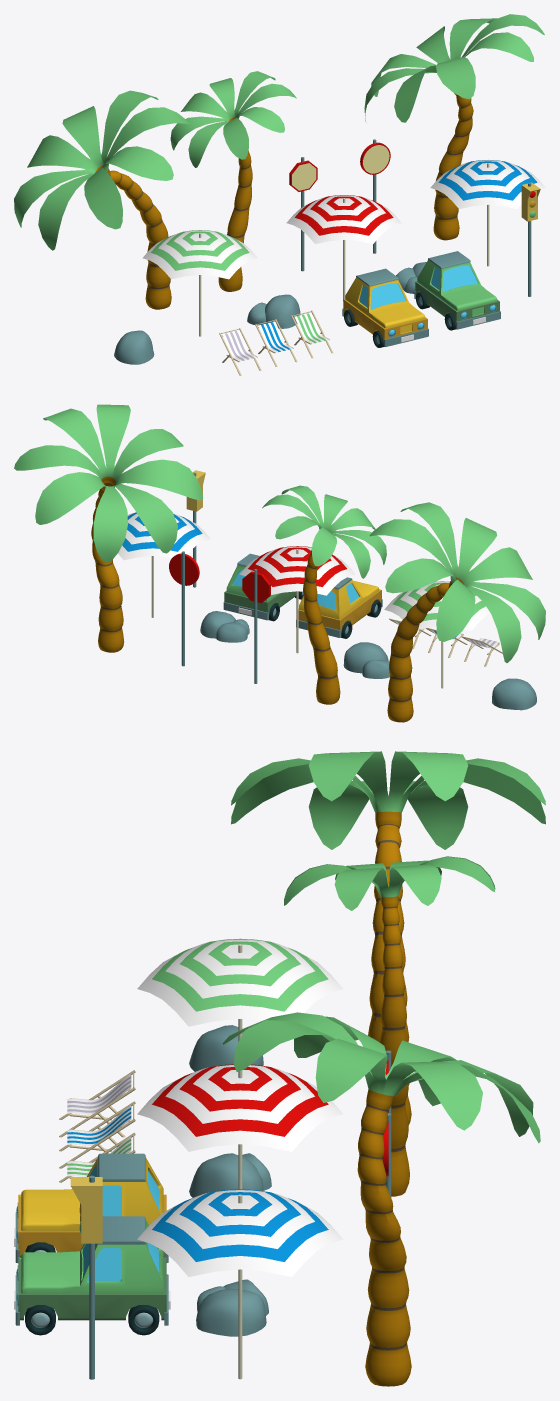
File: environment_assets.fbx
The picture shows the model from 3 angles, top to bottom: view 1: azimuth 30°, elevation 25°; view 2: azimuth 150°, elevation 25°; view 3: azimuth 270°, elevation 25°; orthographic projection. The views are drawn at different scales.
Visible parts, largest first — view 1: palm_c.001, palm_a.001, palm_b.001, car_green, car_yellow, umbrella_green, umbrella_red, umbrella_blue, palm_c, palm_a, palm_b, twoRock (+8 smaller); view 2: palm_a.001, palm_c.001, palm_b.001, umbrella_red, palm_c, car_yellow, palm_b, palm_a, umbrella_blue, car_green, umbrella_green, twoRock (+5 smaller); view 3: palm_c.001, palm_a.001, umbrella_blue, car_green, umbrella_red, umbrella_green, palm_a, car_yellow, palm_b.001, palm_b, palm_c, threeRock (+6 smaller).
Boxes of the visible parts, box(x1,y1,x2,y2) form: palm_c.001: box(14, 90, 189, 250); palm_a.001: box(364, 14, 544, 122); palm_b.001: box(170, 71, 296, 167); car_green: box(414, 251, 500, 330); car_yellow: box(342, 268, 428, 347); umbrella_green: box(142, 230, 257, 336); umbrella_red: box(286, 195, 401, 300); umbrella_blue: box(430, 160, 545, 266); palm_c: box(95, 165, 171, 309); palm_a: box(433, 93, 473, 240); palm_b: box(218, 117, 252, 291); twoRock: box(247, 294, 300, 328); palm_a.001: box(14, 404, 203, 562); palm_c.001: box(369, 502, 545, 662); palm_b.001: box(262, 485, 386, 578); umbrella_red: box(239, 546, 355, 653); palm_c: box(387, 577, 464, 722); car_yellow: box(296, 577, 382, 638); palm_b: box(303, 549, 340, 704); palm_a: box(91, 476, 124, 652); umbrella_blue: box(118, 512, 210, 617); car_green: box(223, 553, 303, 621); umbrella_green: box(384, 581, 490, 688); twoRock: box(343, 642, 390, 678); palm_c.001: box(231, 751, 545, 849); palm_a.001: box(222, 1012, 540, 1143); umbrella_blue: box(137, 1189, 343, 1379); car_green: box(14, 1216, 170, 1335); umbrella_red: box(137, 1064, 342, 1189); umbrella_green: box(137, 938, 342, 1041); palm_a: box(357, 1089, 411, 1386); car_yellow: box(14, 1153, 168, 1263); palm_b.001: box(284, 856, 495, 910); palm_b: box(379, 896, 409, 1196); palm_c: box(368, 811, 411, 1125); threeRock: box(196, 1279, 268, 1336).
Size of the model in its own units: 6896 by 2808 by 3590.
